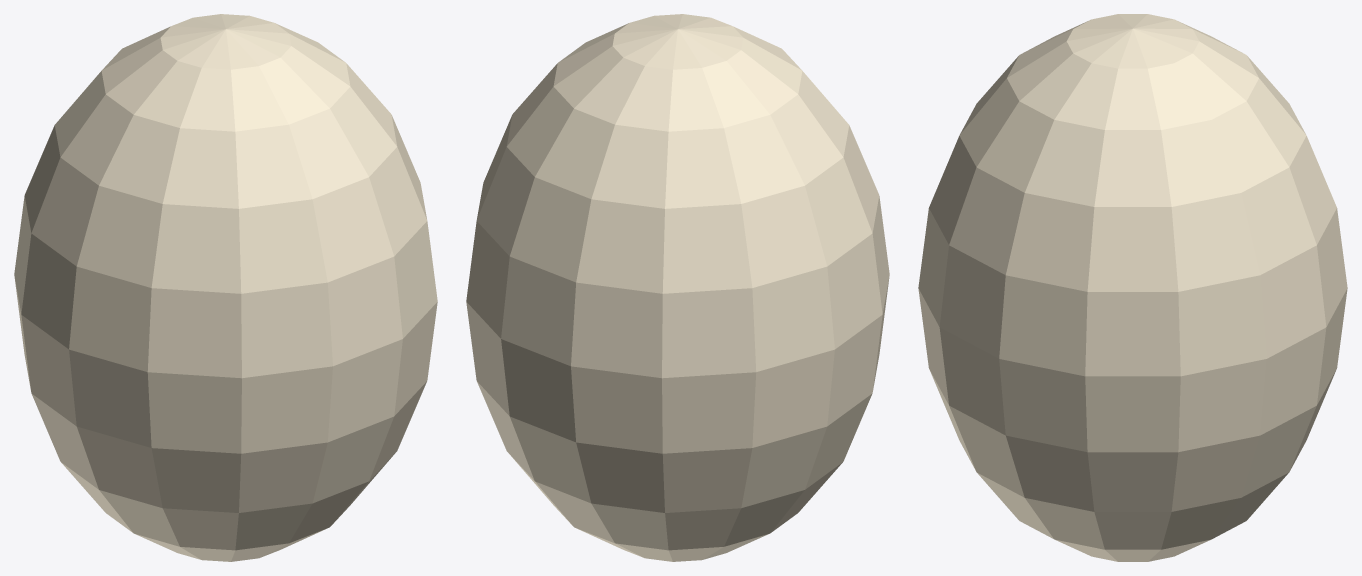
File: goal_stand_props.glb
3 views of the same model, side by side, from view 1: azimuth 30°, elevation 25°; view 2: azimuth 150°, elevation 25°; view 3: azimuth 270°, elevation 25° (orthographic).
Parts seen in each view (by area): view 1: GSP_EggProjectile; view 2: GSP_EggProjectile; view 3: GSP_EggProjectile.
Part boxes in pixels (left/top/right/bottom): GSP_EggProjectile: left=14, top=14, right=437, bottom=561; GSP_EggProjectile: left=466, top=14, right=889, bottom=561; GSP_EggProjectile: left=918, top=14, right=1347, bottom=561.
Bounding box in the file's own units: 0.1462 × 0.2 × 0.15.
1 material, 1 textured.
